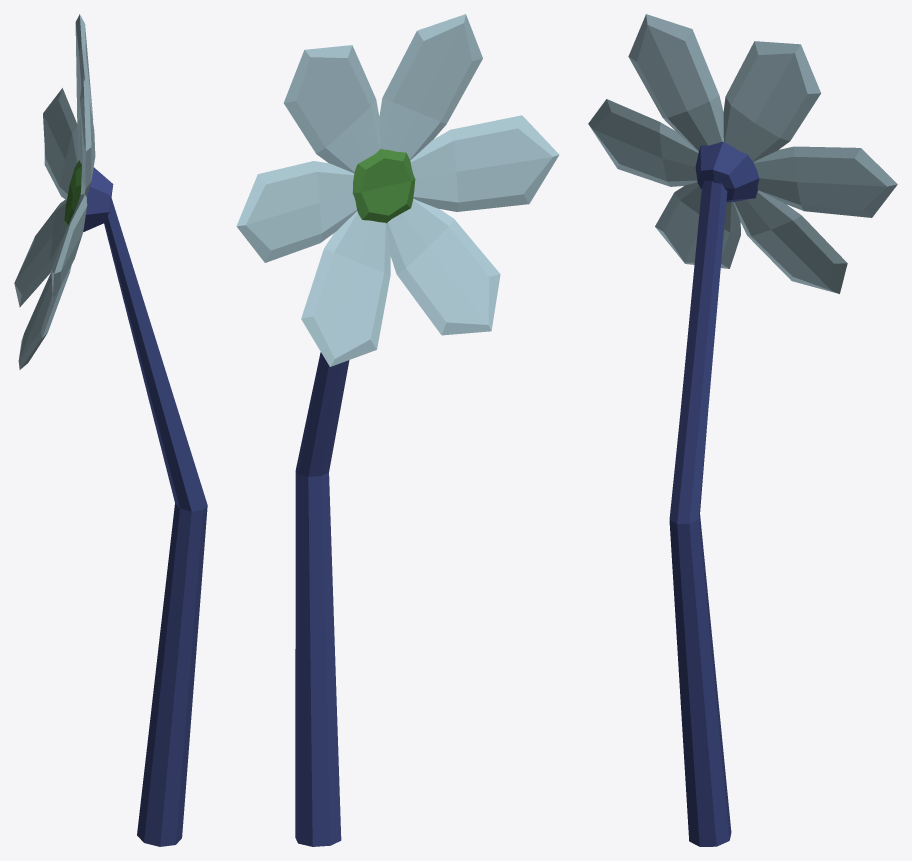
Rendered from Kitchen_Flower2.fbx.
The picture shows the model from 3 angles, left to right: view 1: azimuth 30°, elevation 25°; view 2: azimuth 150°, elevation 25°; view 3: azimuth 270°, elevation 25°; orthographic projection. The views are drawn at different scales.
Parts seen in each view (by area): view 1: Kitchen_Flower2; view 2: Kitchen_Flower2; view 3: Kitchen_Flower2.
Part boxes in pixels (x1,y1,x2,y2): Kitchen_Flower2: (14,14,207,846); Kitchen_Flower2: (236,14,559,846); Kitchen_Flower2: (588,14,897,846).
Size of the model in its own units: 14.03 by 53.41 by 19.25.
